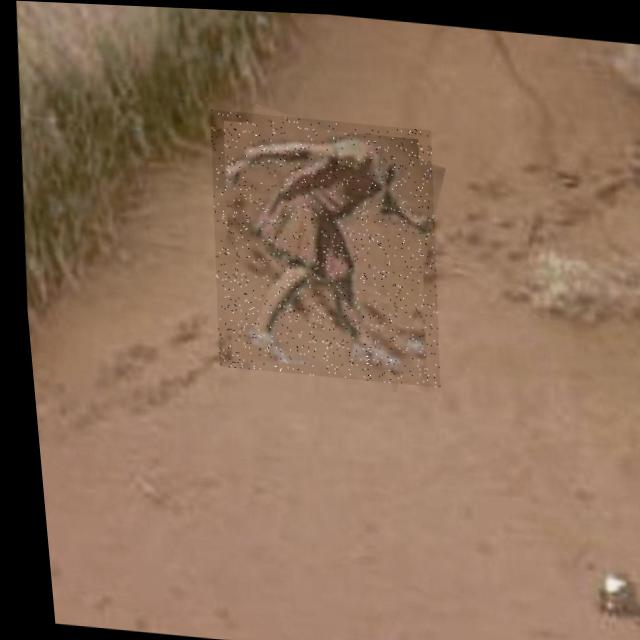Person in Rubble: (195, 107, 447, 384)
